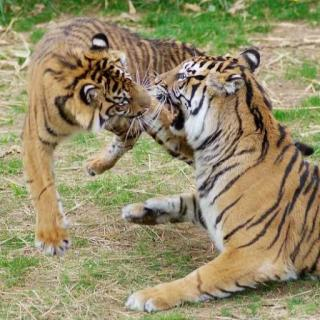Tiger: (122, 46, 318, 310), (20, 15, 153, 257)
